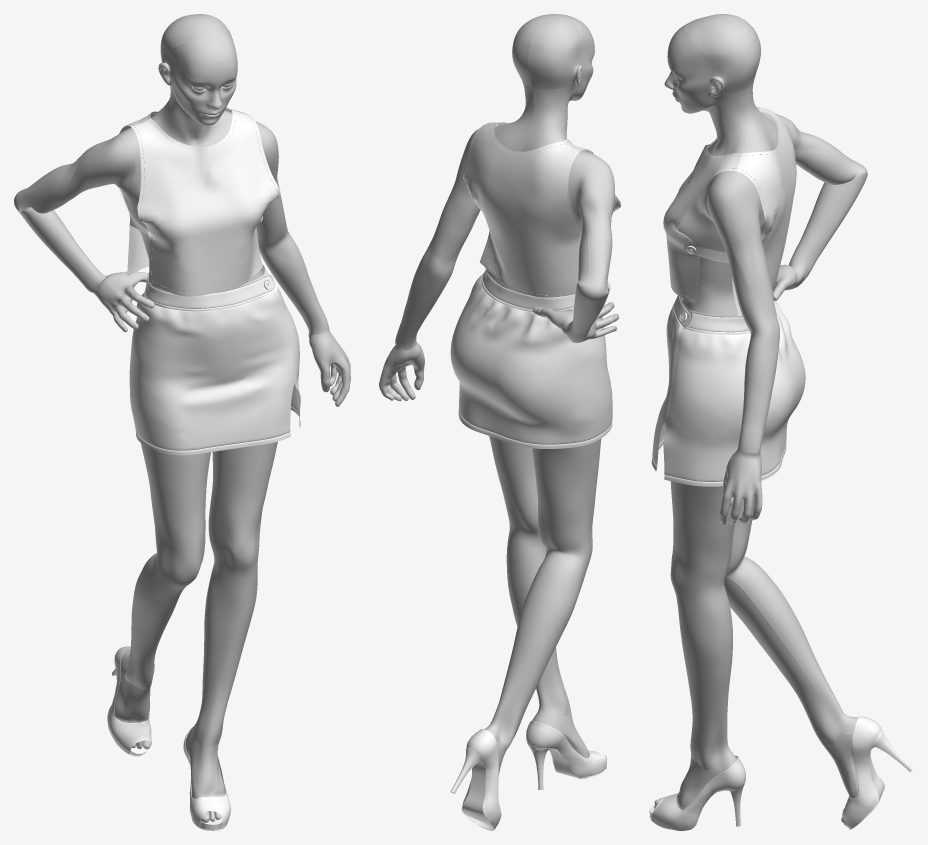
File: maniqui.glb
The picture shows the model from 3 angles, left to right: view 1: azimuth 30°, elevation 25°; view 2: azimuth 150°, elevation 25°; view 3: azimuth 270°, elevation 25°; orthographic projection. The views are drawn at different scales.
Parts seen in each view (by area): view 1: Mannequin, Skirt, Top, Heels; view 2: Mannequin, Skirt, Top, Heels; view 3: Mannequin, Skirt, Top, Heels.
Part boxes in pixels (bbox=[...]): Mannequin: bbox=[14, 14, 350, 822]; Skirt: bbox=[129, 264, 300, 455]; Top: bbox=[119, 107, 280, 296]; Heels: bbox=[107, 646, 231, 830]; Mannequin: bbox=[379, 14, 618, 775]; Skirt: bbox=[450, 268, 612, 448]; Top: bbox=[463, 122, 620, 297]; Heels: bbox=[450, 720, 606, 830]; Mannequin: bbox=[654, 14, 867, 823]; Skirt: bbox=[651, 295, 805, 486]; Top: bbox=[663, 107, 796, 316]; Heels: bbox=[649, 716, 913, 830].
Bounding box in the file's own units: 0.6213 × 1.67 × 0.4934.
Materials: 3 (3 with a texture image).
